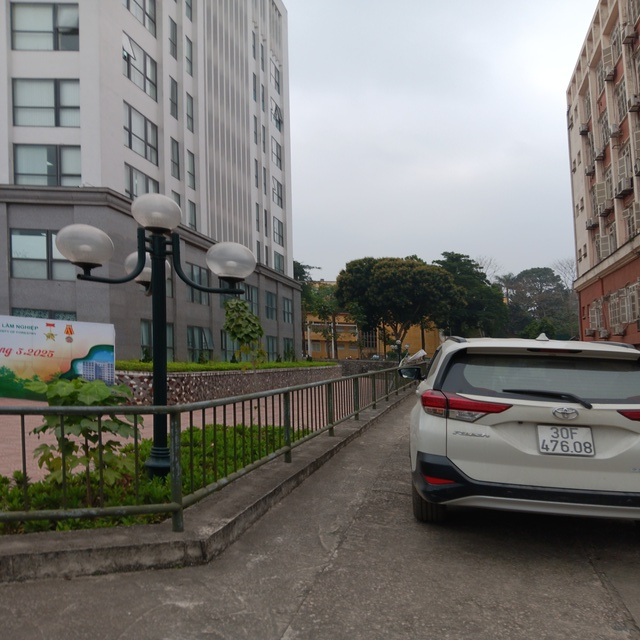cotden: (55, 190, 256, 493), (390, 334, 420, 373)
